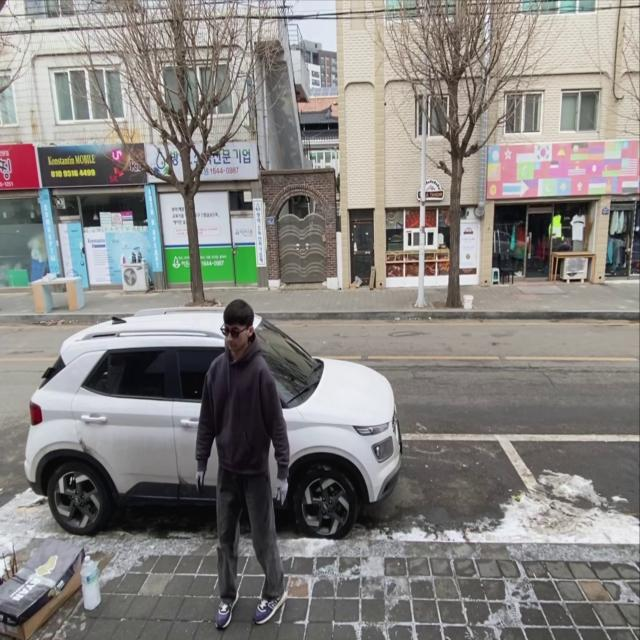gloved_hand: (270, 474, 290, 508), (190, 465, 208, 494)
